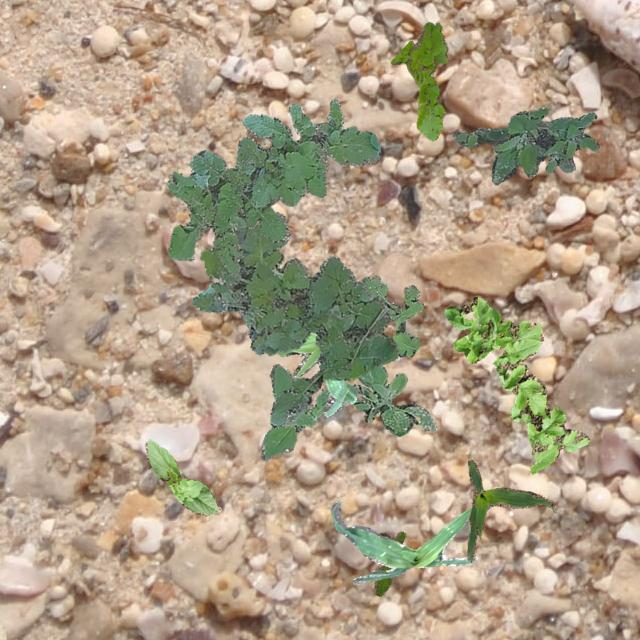crop: (329, 499, 476, 583), (466, 460, 552, 560), (276, 330, 356, 416), (144, 438, 220, 514)
weed: (192, 205, 398, 428), (166, 98, 380, 276), (444, 296, 588, 472), (260, 364, 437, 459), (452, 106, 598, 184), (389, 21, 446, 140), (361, 274, 422, 356), (372, 530, 404, 594)
